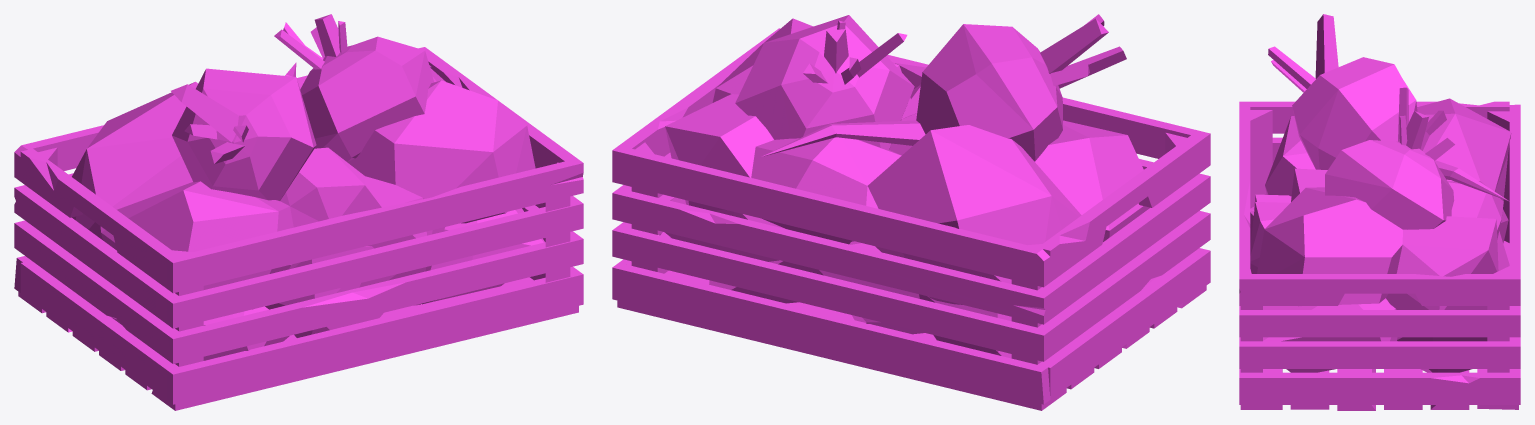
File: SM_Crate_Wood_Medium_Beetroot.fbx
3 views of the same model, side by side, from view 1: azimuth 30°, elevation 25°; view 2: azimuth 150°, elevation 25°; view 3: azimuth 270°, elevation 25° (orthographic). The views are drawn at different scales.
Parts seen in each view (by area): view 1: SM_Crate_Wood_Medium_Beetroot; view 2: SM_Crate_Wood_Medium_Beetroot; view 3: SM_Crate_Wood_Medium_Beetroot.
Boxes of the visible parts, <box> form: SM_Crate_Wood_Medium_Beetroot: <box>14,14,583,410</box>; SM_Crate_Wood_Medium_Beetroot: <box>612,14,1210,410</box>; SM_Crate_Wood_Medium_Beetroot: <box>1239,14,1520,410</box>.
Bounding box in the file's own units: 0.6067 × 0.393 × 0.4063.
